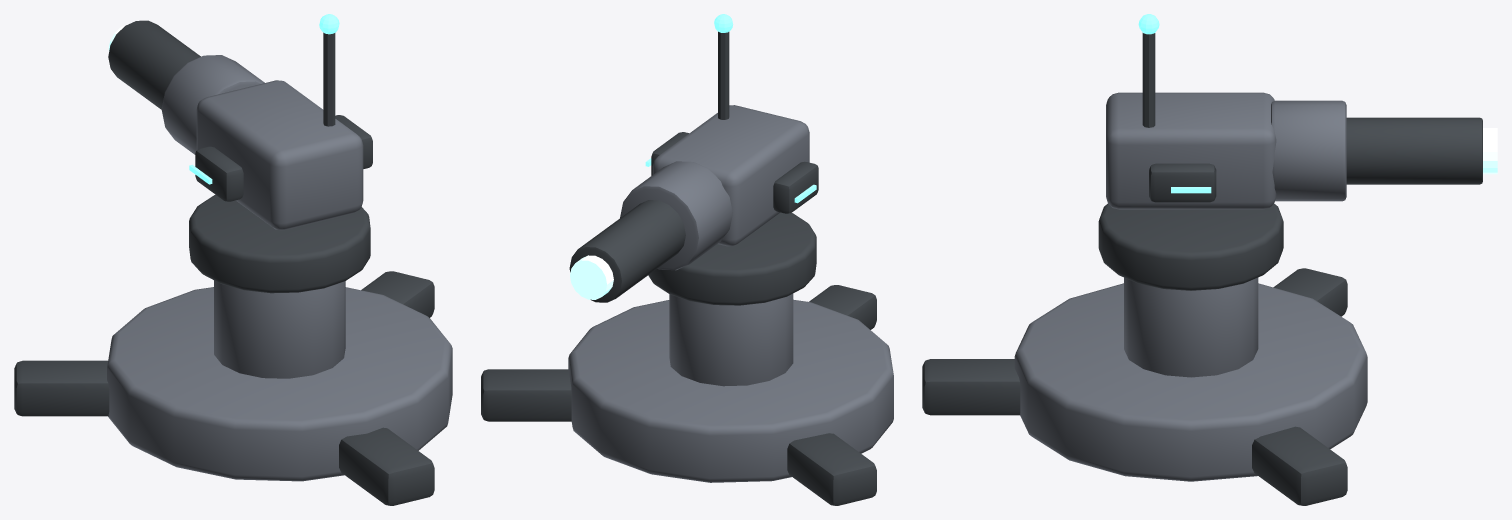
The model's file is turret_laser.glb.
3 views of the same model, side by side, from view 1: azimuth 30°, elevation 25°; view 2: azimuth 150°, elevation 25°; view 3: azimuth 270°, elevation 25° (orthographic). The views are drawn at different scales.
Visible parts, largest first — view 1: Laser_Base, Turret_Pitch, Turret_Yaw, Laser_Pedestal, Laser_Foot2, Laser_Foot1, Turret_Barrel, Laser_Shroud, Laser_Foot0, Laser_Vent-1, Laser_Ant, Laser_Vent1; view 2: Laser_Base, Turret_Pitch, Laser_Pedestal, Turret_Yaw, Laser_Shroud, Turret_Barrel, Laser_Foot1, Laser_Foot0, Laser_Foot2, Laser_Vent-1, Turret_Muzzle, Laser_Ant; view 3: Laser_Base, Turret_Pitch, Turret_Yaw, Laser_Pedestal, Turret_Barrel, Laser_Shroud, Laser_Foot2, Laser_Foot0, Laser_Vent1, Laser_Foot1, Laser_Ant, Turret_Muzzle.
Boxes of the visible parts, x1=… form: Laser_Base: x1=107, y1=287, x2=452, y2=481; Turret_Pitch: x1=196, y1=80, x2=363, y2=230; Turret_Yaw: x1=189, y1=194, x2=370, y2=293; Laser_Pedestal: x1=214, y1=280, x2=345, y2=378; Laser_Foot2: x1=339, y1=427, x2=434, y2=505; Laser_Foot1: x1=14, y1=360, x2=109, y2=416; Turret_Barrel: x1=108, y1=20, x2=200, y2=109; Laser_Shroud: x1=161, y1=55, x2=264, y2=154; Laser_Foot0: x1=361, y1=271, x2=434, y2=317; Laser_Vent-1: x1=195, y1=146, x2=243, y2=201; Laser_Ant: x1=323, y1=32, x2=335, y2=126; Laser_Vent1: x1=335, y1=115, x2=372, y2=168; Laser_Base: x1=568, y1=299, x2=893, y2=482; Turret_Pitch: x1=652, y1=105, x2=809, y2=246; Laser_Pedestal: x1=669, y1=293, x2=793, y2=386; Turret_Yaw: x1=648, y1=212, x2=816, y2=305; Laser_Shroud: x1=620, y1=161, x2=732, y2=270; Turret_Barrel: x1=569, y1=200, x2=685, y2=302; Laser_Foot1: x1=787, y1=433, x2=876, y2=505; Laser_Foot0: x1=481, y1=369, x2=571, y2=421; Laser_Foot2: x1=809, y1=285, x2=876, y2=329; Laser_Vent-1: x1=773, y1=161, x2=818, y2=213; Turret_Muzzle: x1=570, y1=255, x2=613, y2=299; Laser_Ant: x1=718, y1=31, x2=729, y2=119; Laser_Base: x1=1014, y1=283, x2=1367, y2=481; Turret_Pitch: x1=1106, y1=92, x2=1276, y2=209; Turret_Yaw: x1=1098, y1=203, x2=1283, y2=290; Laser_Pedestal: x1=1124, y1=277, x2=1258, y2=377; Turret_Barrel: x1=1346, y1=117, x2=1482, y2=184; Laser_Shroud: x1=1271, y1=100, x2=1346, y2=201; Laser_Foot2: x1=922, y1=359, x2=1020, y2=415; Laser_Foot0: x1=1252, y1=426, x2=1347, y2=505; Laser_Vent1: x1=1149, y1=163, x2=1216, y2=202; Laser_Foot1: x1=1273, y1=268, x2=1347, y2=316; Laser_Ant: x1=1142, y1=33, x2=1155, y2=127; Turret_Muzzle: x1=1483, y1=128, x2=1497, y2=174.
Bounding box in the file's own units: 1.16 × 1.07 × 1.37.
